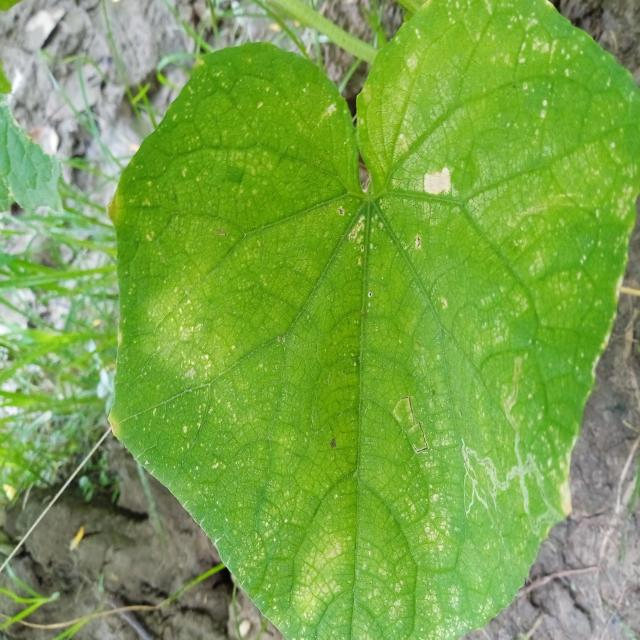cucumber_anthracnose: (81, 13, 640, 626)
